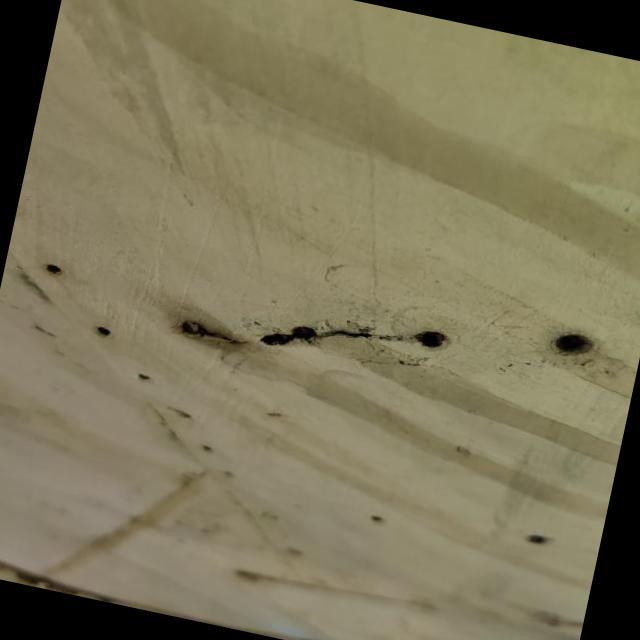Rupture: (148, 244, 480, 426)
